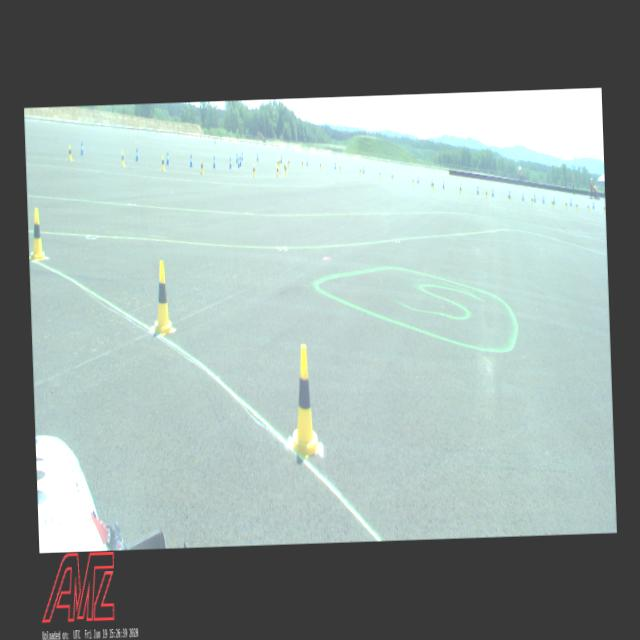blue_cone: (80, 141, 84, 155), (189, 154, 193, 167), (134, 148, 138, 161), (166, 151, 170, 164), (228, 156, 232, 168), (212, 156, 215, 168), (235, 154, 238, 162), (238, 157, 240, 168), (239, 155, 241, 166), (256, 152, 258, 161), (542, 194, 544, 203), (476, 185, 478, 194), (534, 193, 536, 202), (552, 195, 554, 204), (522, 192, 524, 200), (240, 152, 242, 160), (442, 180, 444, 188), (491, 188, 493, 196), (334, 162, 336, 170), (430, 178, 432, 186), (570, 198, 572, 206), (416, 175, 418, 183), (362, 166, 364, 173), (592, 202, 594, 208)
yellow_cone: (288, 344, 322, 454), (151, 260, 173, 334), (28, 207, 46, 261), (68, 144, 72, 160), (160, 154, 164, 170), (120, 150, 124, 166), (200, 159, 204, 174), (252, 163, 255, 176), (276, 158, 279, 168), (276, 163, 278, 177), (458, 184, 461, 193), (378, 170, 381, 178), (485, 188, 487, 198), (284, 164, 286, 174), (551, 198, 553, 208), (283, 161, 285, 171), (508, 192, 510, 202), (530, 195, 532, 204), (575, 201, 577, 210), (391, 171, 393, 180), (564, 200, 566, 209), (602, 203, 604, 212), (432, 180, 434, 189), (288, 158, 290, 166), (319, 161, 321, 169), (411, 176, 413, 184), (587, 202, 589, 210), (278, 158, 280, 166), (301, 160, 303, 167), (359, 167, 361, 174), (339, 163, 340, 172)
